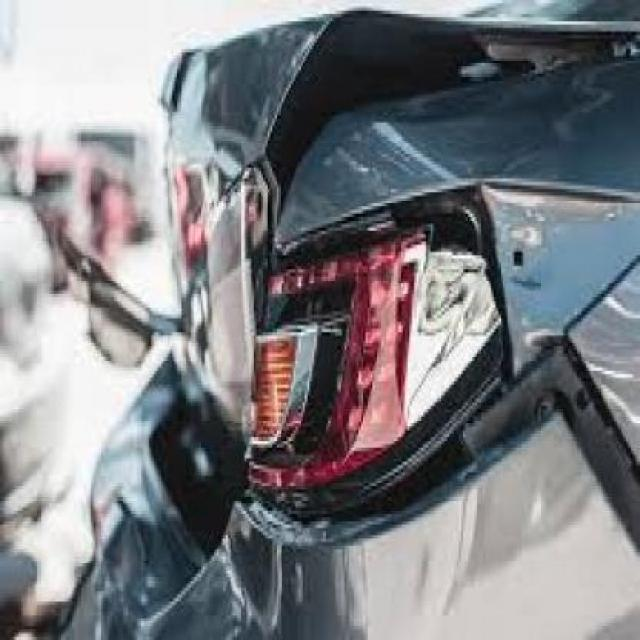accident: (92, 34, 608, 640)
